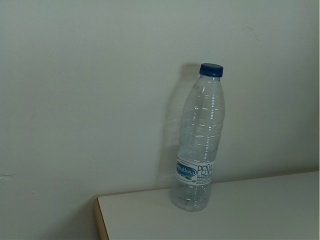botella plastico: (170, 62, 228, 216)
